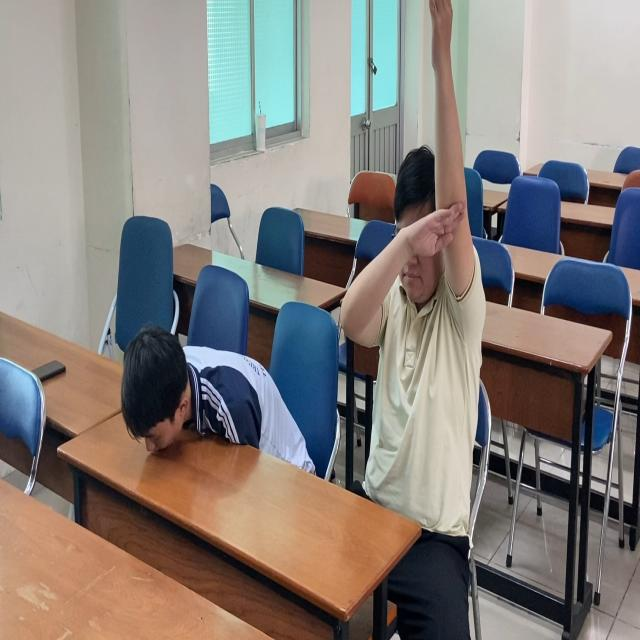raise_hand: (330, 1, 500, 527)
sleep: (119, 316, 299, 464)
